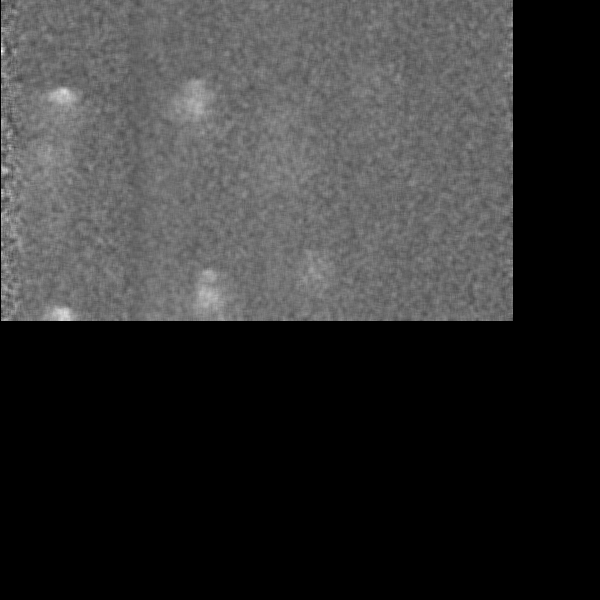spark: (173, 73, 210, 152), (189, 272, 225, 317), (46, 82, 77, 132), (298, 248, 324, 288), (38, 140, 53, 181)
